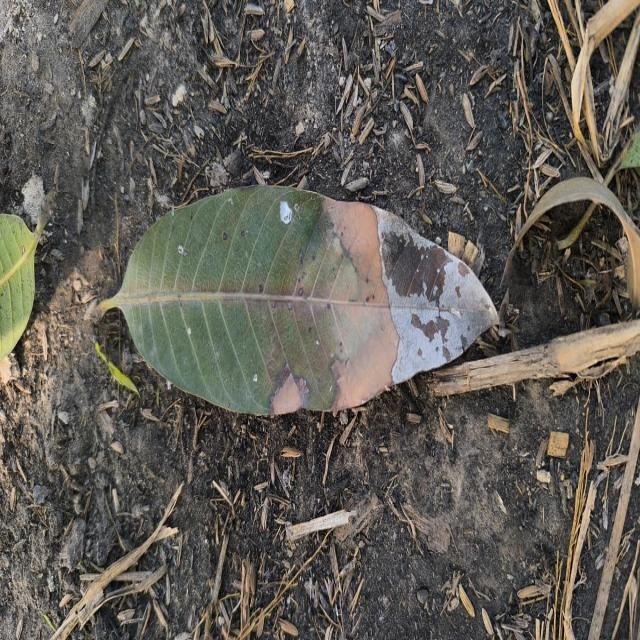Powdery Mildew: (279, 200, 292, 223), (177, 244, 185, 255)
black die: (383, 241, 451, 289)
